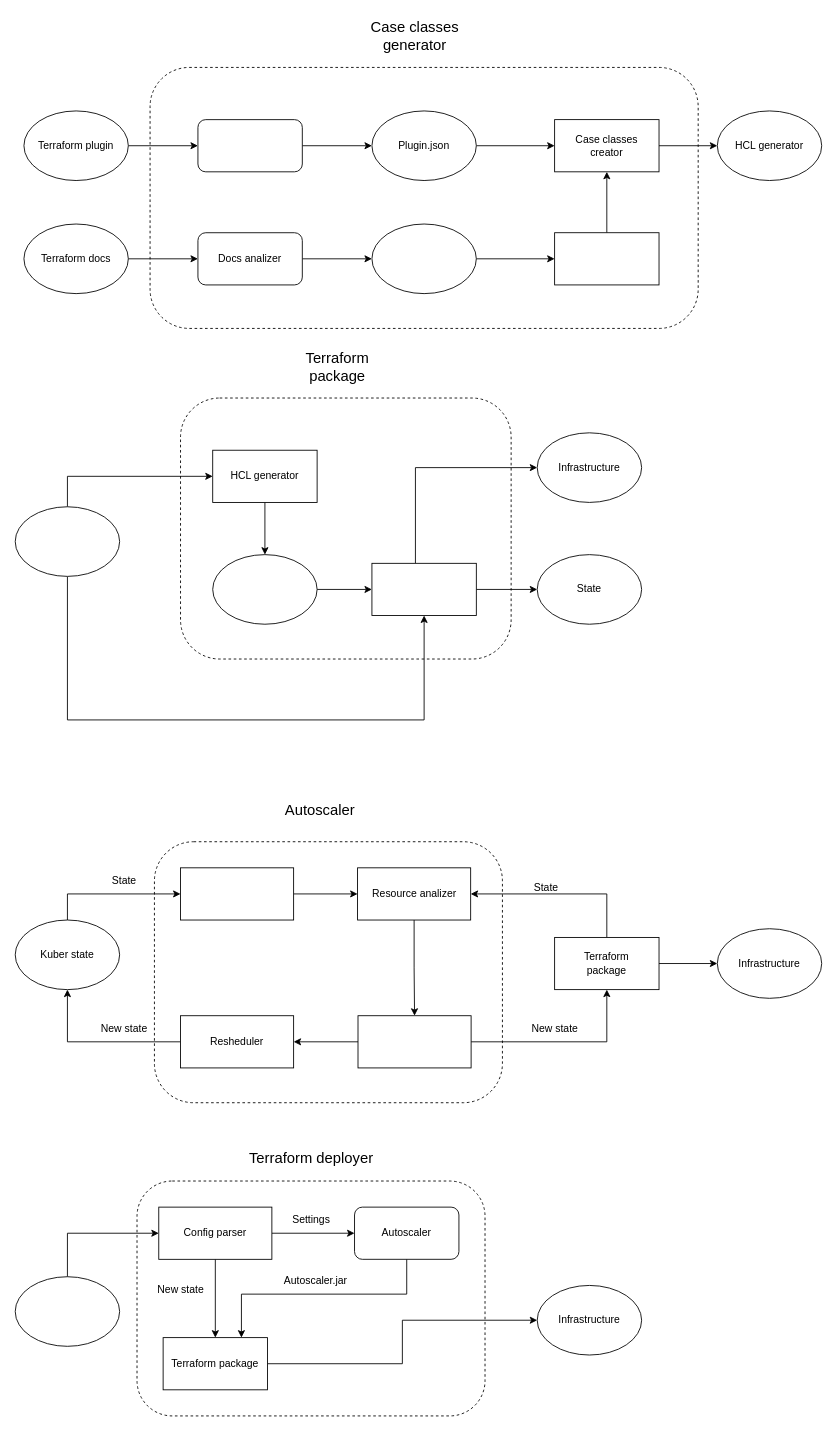
This 837x1431 diagram has some shape labels left out. Each missing label, with the centre of its shape:
Api decoder: pixel 237 893
Cluster config: pixel 67 1311
Docs.json: pixel 423 258
HCL: pixel 264 589
HCL Deployer: pixel 423 589
Instructions from other module: pixel 67 541
Metadata creator: pixel 606 258
Plugin analizer: pixel 249 145
Scaler: pixel 414 1041
